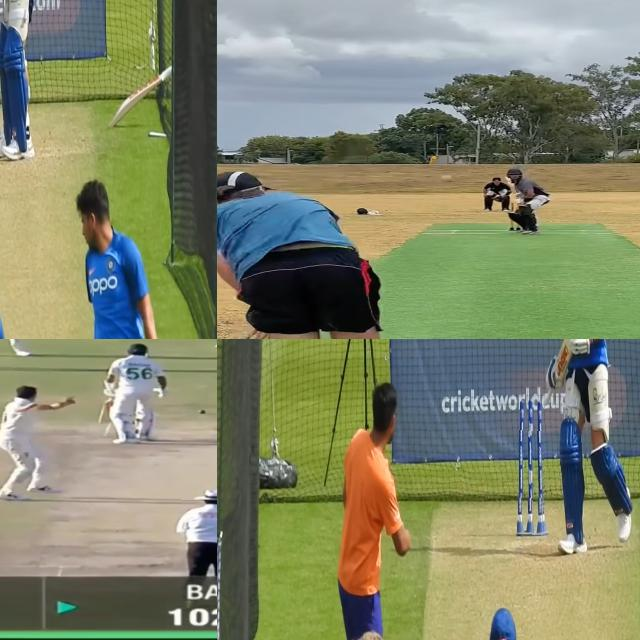Cricket ball: (438, 173, 460, 185), (197, 408, 207, 414)
Stumps: (517, 396, 545, 536)
